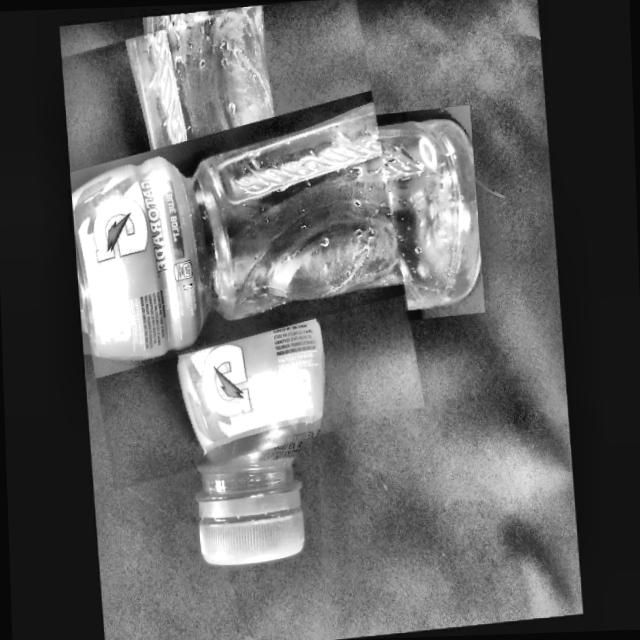Plastic-Bottle: (57, 0, 417, 482)
